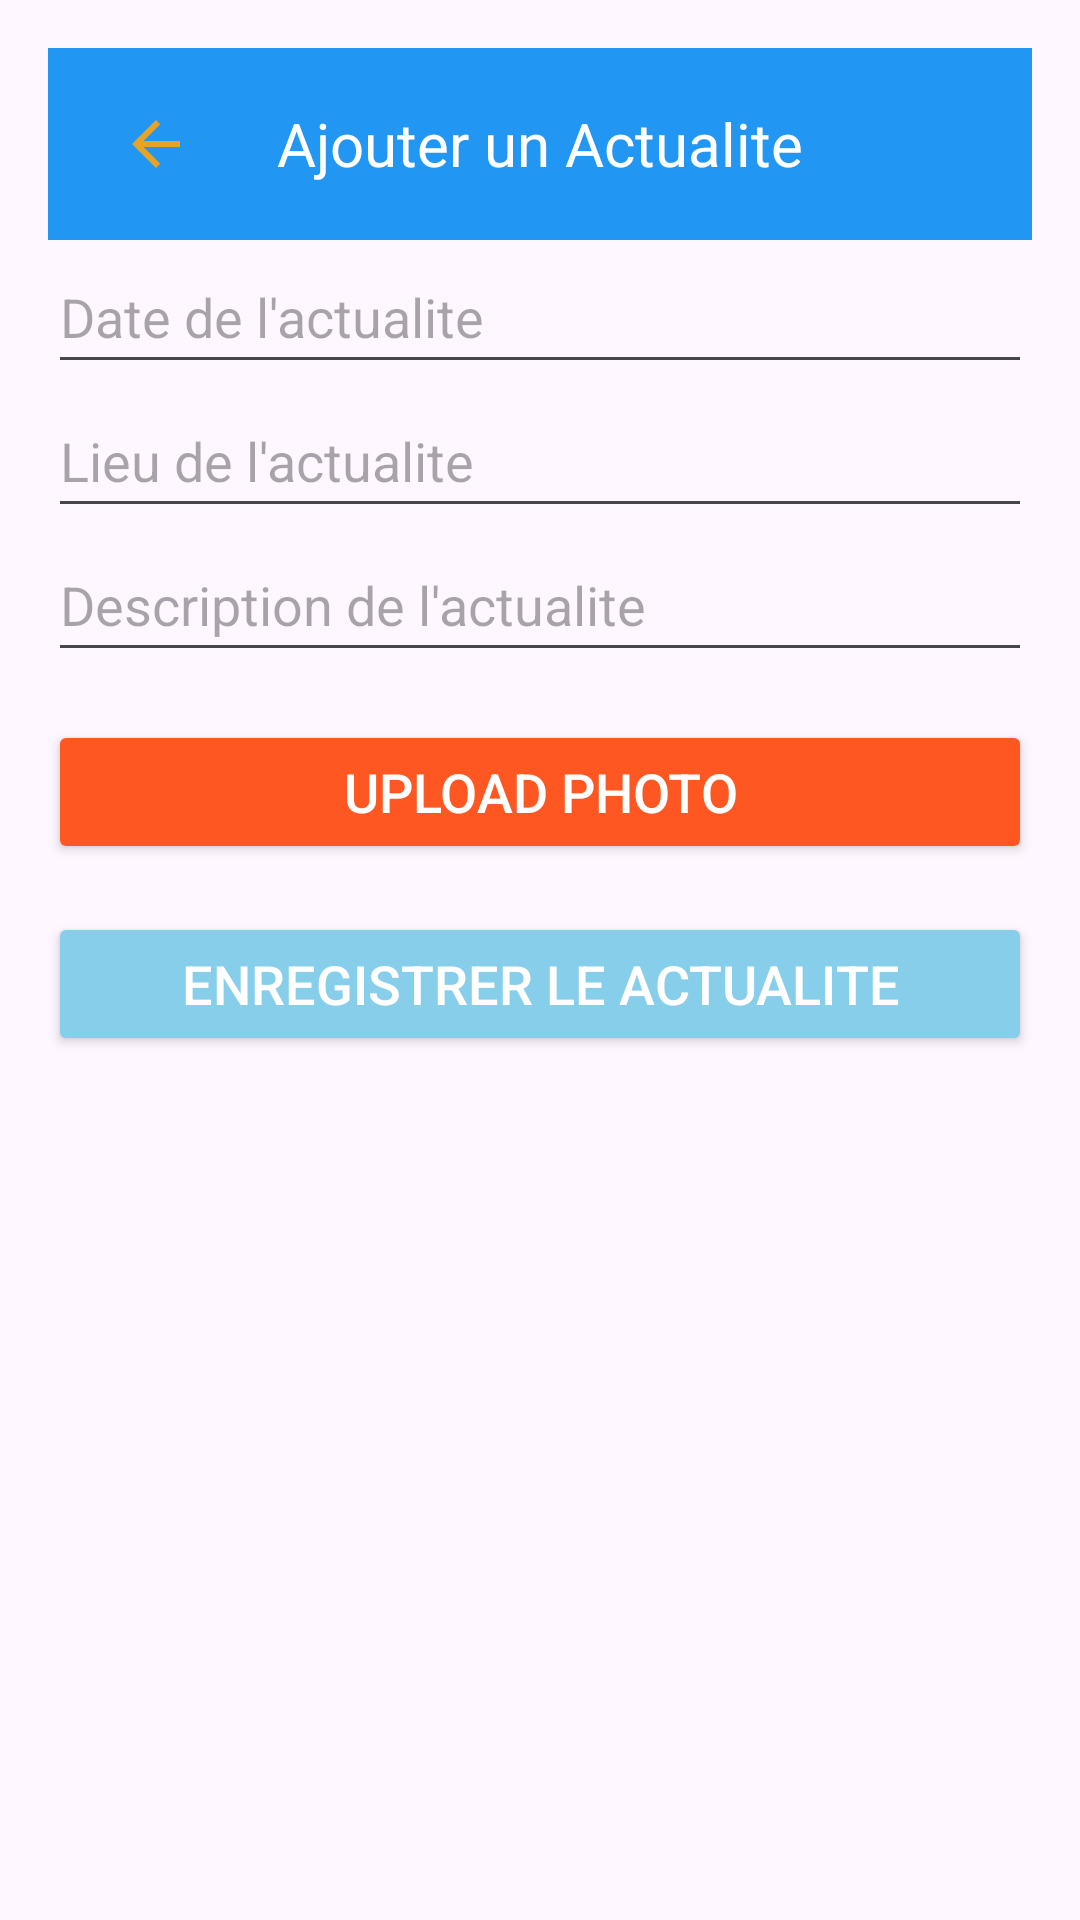

Where to tap for icons on this 1080w x 1920h app screen, as (x=x, y=y):
Retour: (x=156, y=144)
